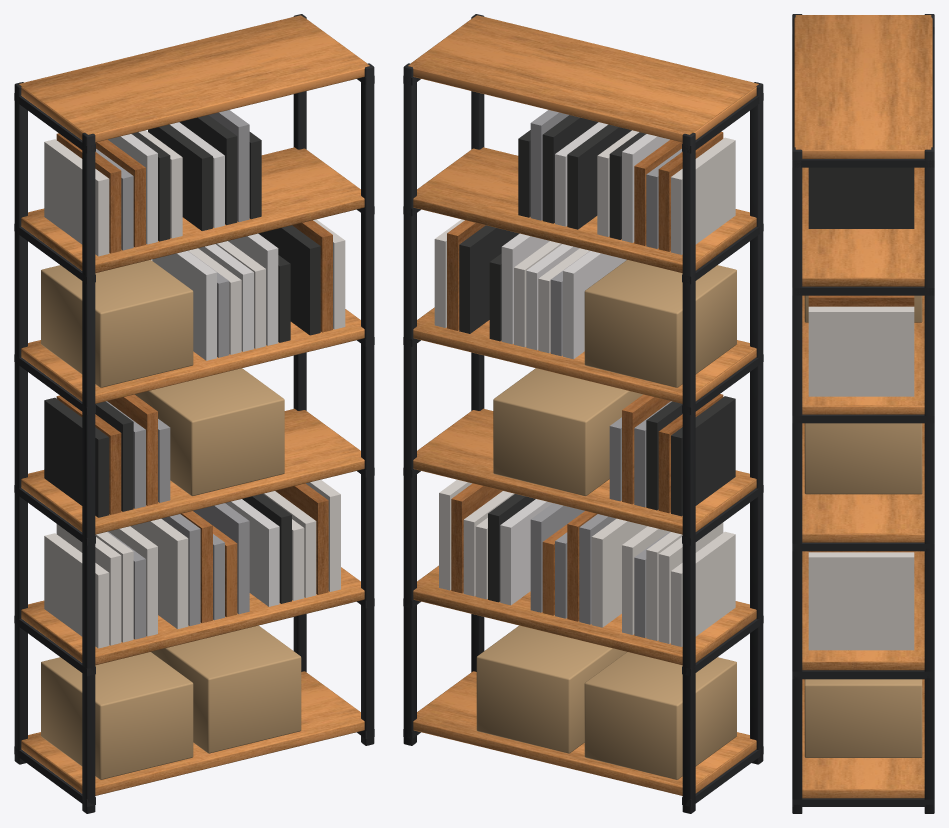
File: storage.open-shelf-tall.glb
The picture shows the model from 3 angles, left to right: view 1: azimuth 30°, elevation 25°; view 2: azimuth 150°, elevation 25°; view 3: azimuth 270°, elevation 25°; orthographic projection. The views are drawn at different scales.
Parts seen in each view (by area): view 1: storage.open-shelf-tall.001; view 2: storage.open-shelf-tall.001; view 3: storage.open-shelf-tall.001.
Boxes of the visible parts, x1,y1,x2,y2 form: storage.open-shelf-tall.001: (14,14,374,813); storage.open-shelf-tall.001: (403,14,763,813); storage.open-shelf-tall.001: (792,14,934,813).
Size of the model in its own units: 0.8 by 1.8 by 0.35.
Materials: 8 (2 with a texture image).
